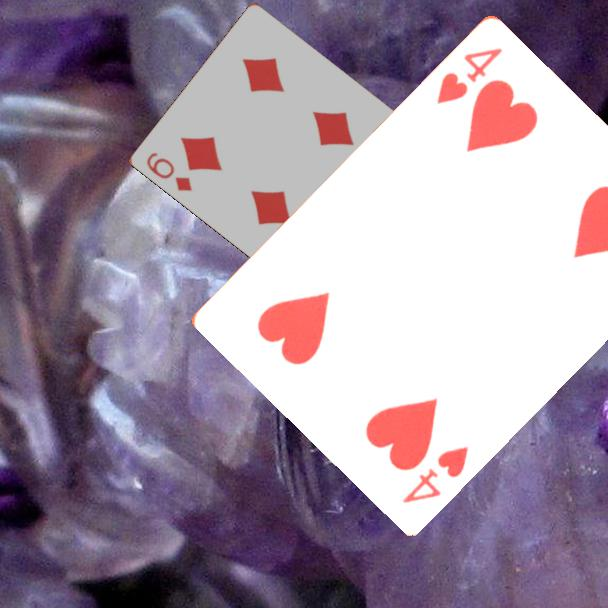d06: (143, 149, 196, 194)
h04: (398, 441, 472, 506), (432, 43, 506, 107)
